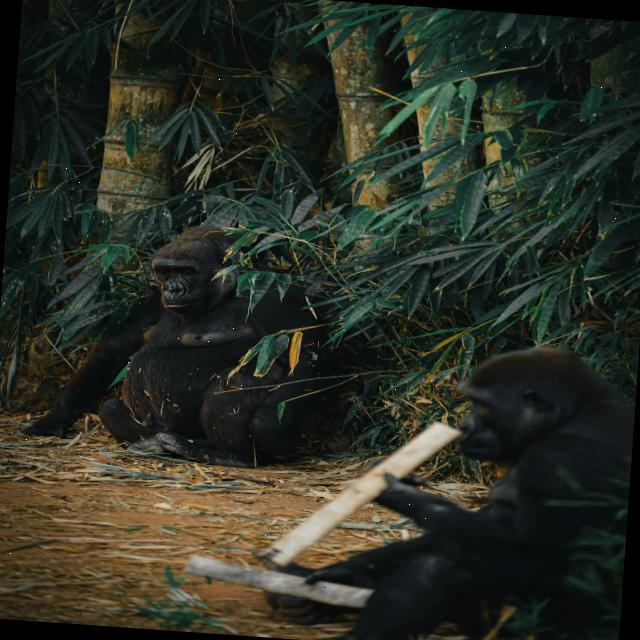Gorilla: (252, 326, 637, 640), (20, 212, 357, 473)
